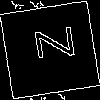Z: (25, 25, 75, 63)
